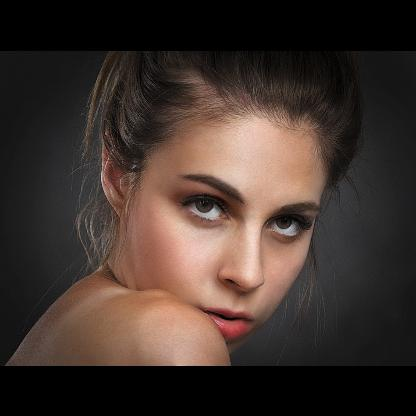Female: (99, 96, 323, 350)
